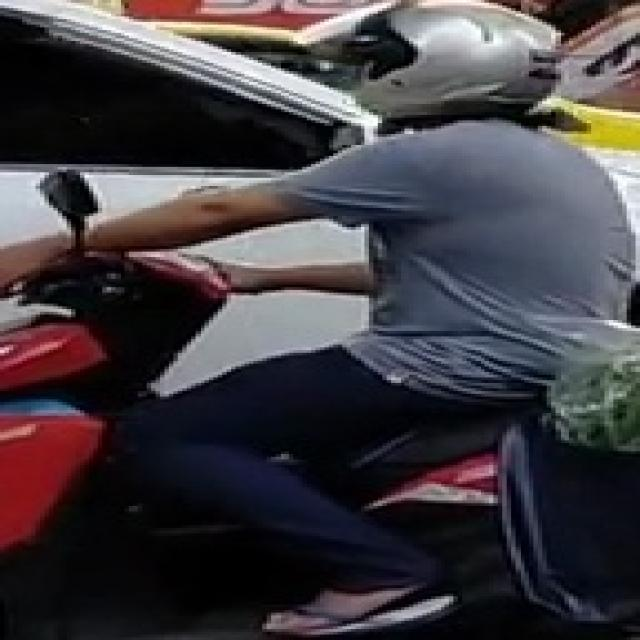door: (0, 0, 635, 637)
helmet: (0, 246, 231, 394), (338, 0, 560, 118)
